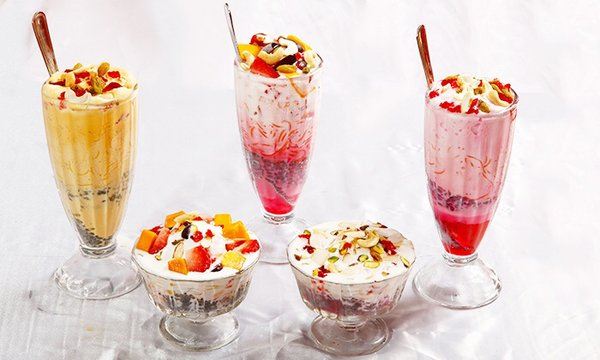pizza: (227, 5, 321, 224), (233, 57, 320, 223)
